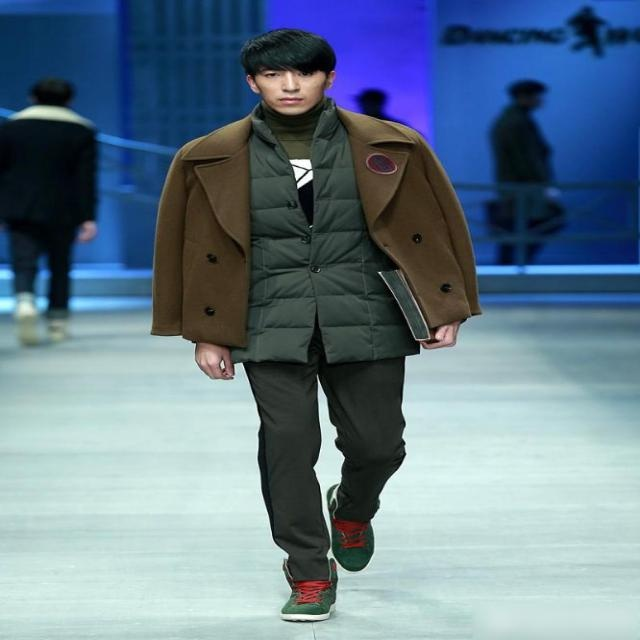obstacle: (139, 13, 480, 640)
